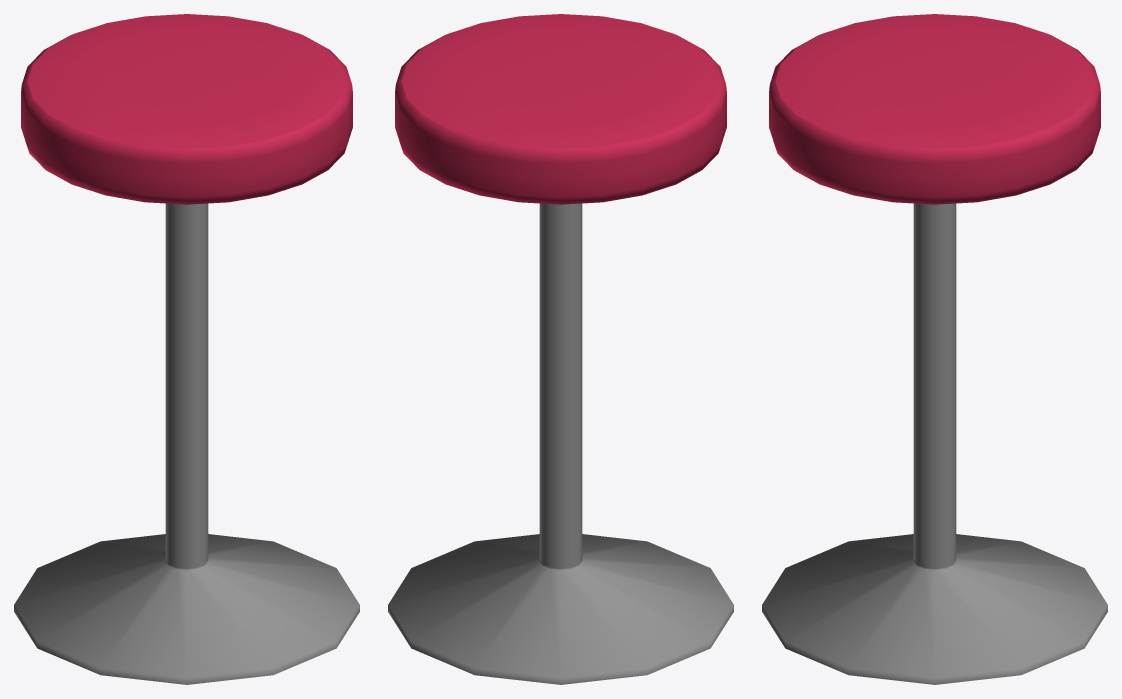
The model's file is StoolChair.fbx.
The picture shows the model from 3 angles, left to right: view 1: azimuth 30°, elevation 25°; view 2: azimuth 150°, elevation 25°; view 3: azimuth 270°, elevation 25°; orthographic projection.
Parts seen in each view (by area): view 1: Support, SeatPad; view 2: Support, SeatPad; view 3: Support, SeatPad.
Boxes of the visible parts, <box> form: Support: <box>14,203,359,684</box>; SeatPad: <box>21,14,352,204</box>; Support: <box>388,203,733,684</box>; SeatPad: <box>395,14,726,204</box>; Support: <box>762,203,1107,684</box>; SeatPad: <box>769,14,1100,204</box>.
Bounding box in the file's own units: 200 × 342 × 200.
